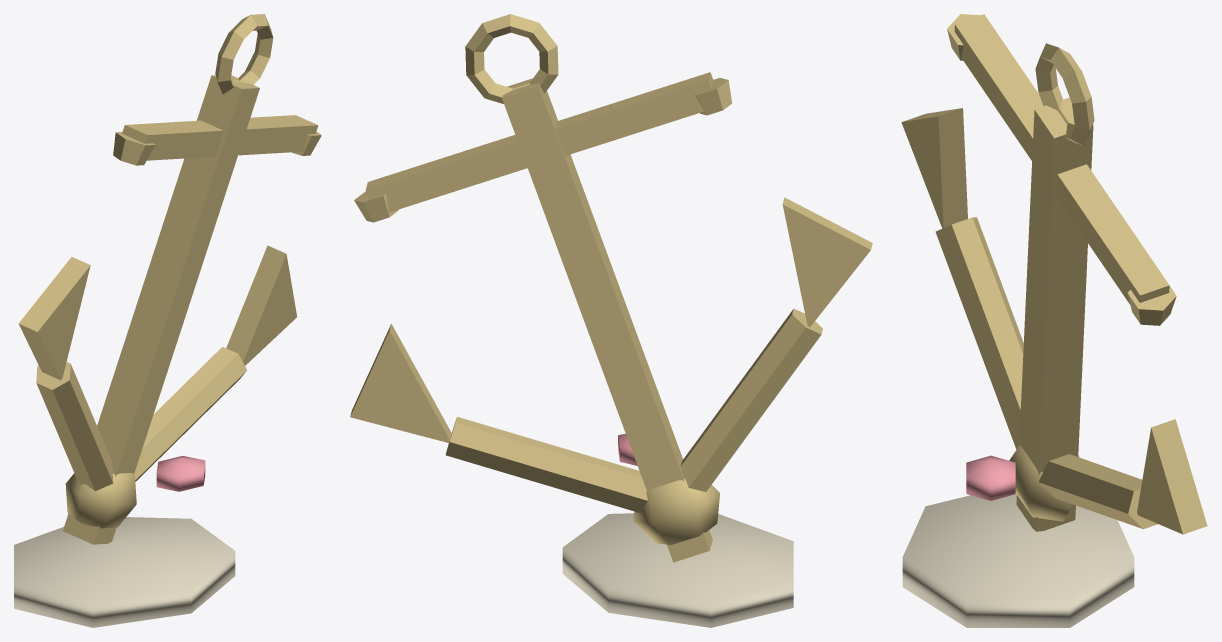
The model's file is sunken-city-and-underwater-ruins-ships-anchor-b15ac3ba__36978.glb.
3 views of the same model, side by side, from view 1: azimuth 30°, elevation 25°; view 2: azimuth 150°, elevation 25°; view 3: azimuth 270°, elevation 25° (orthographic). The views are drawn at different scales.
Parts seen in each view (by area): view 1: ships-anchor; view 2: ships-anchor; view 3: ships-anchor.
Boxes of the visible parts, x1,y1,x2,y2 form: ships-anchor: [14, 14, 321, 627]; ships-anchor: [350, 14, 872, 627]; ships-anchor: [901, 14, 1207, 627].
Size of the model in its own units: 1.95 by 2.52 by 1.12.
